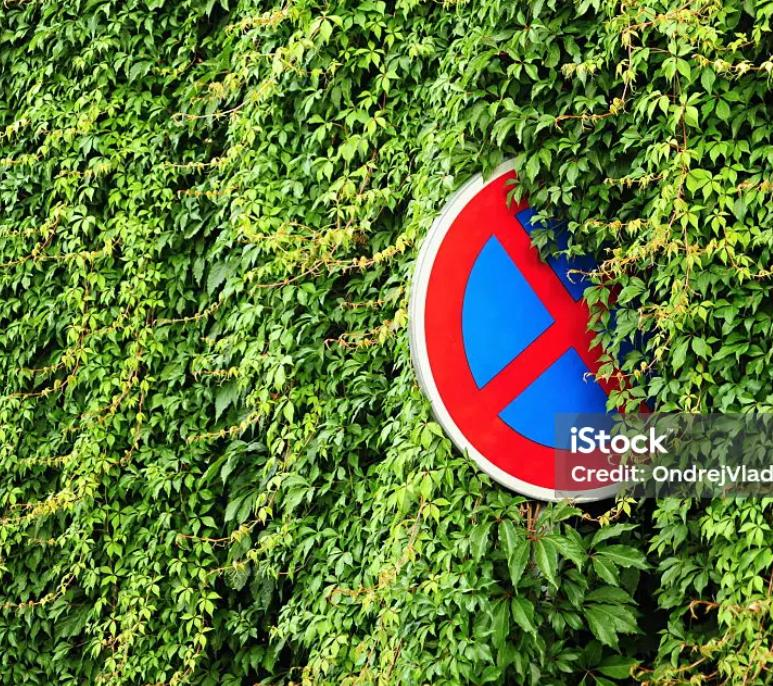obstructed_road_sign: (409, 148, 666, 506)
